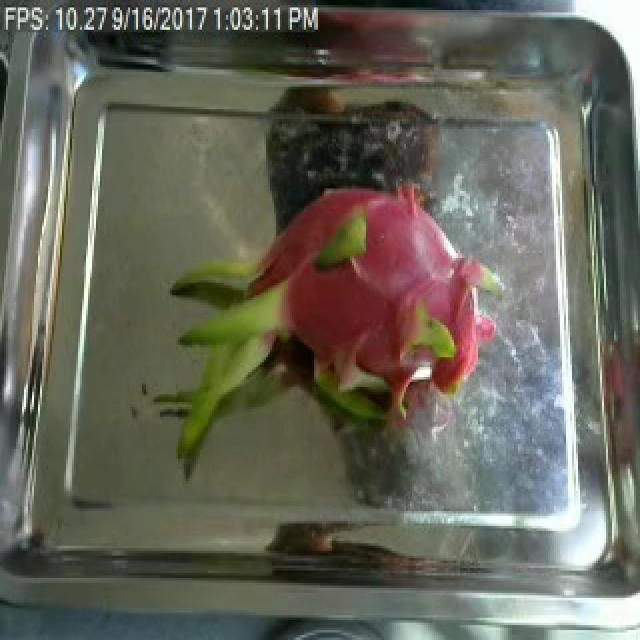fruit: (142, 149, 492, 484)
